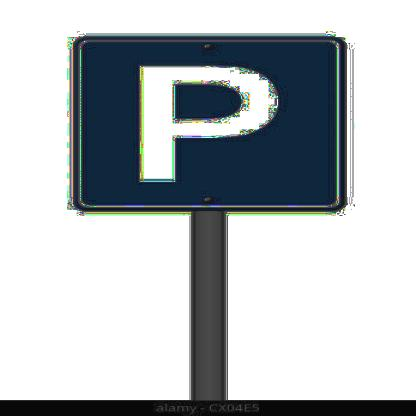Parking: (57, 33, 362, 224)
